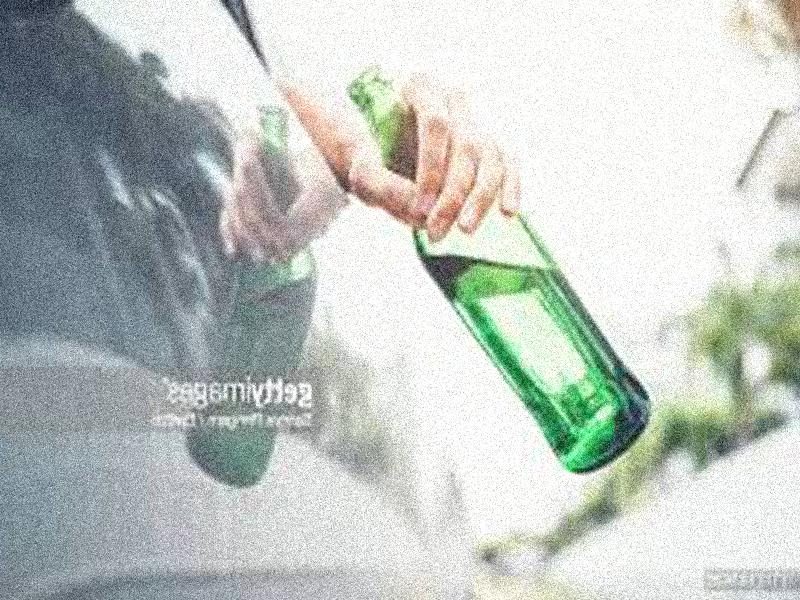Beer: (342, 72, 651, 472)
